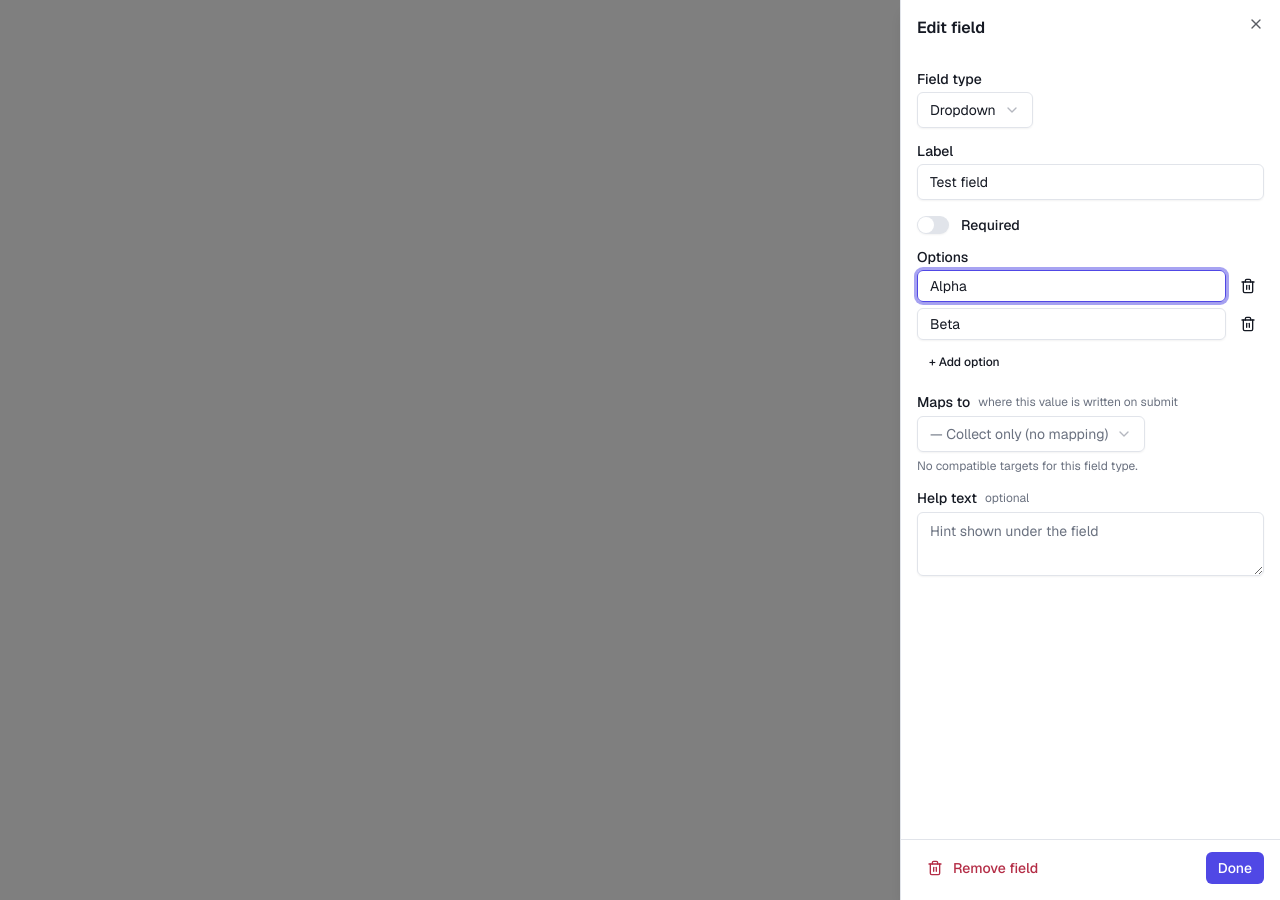
Test case: FieldConfigSheet — dropdown option editing (#3 regression) › keeps focus while typing in an option (no per-keystroke remount)
Type "XYZ" into the 1st field showing "Alpha".
click(1072, 286); type("XYZ")  # box [917,270,1226,302]
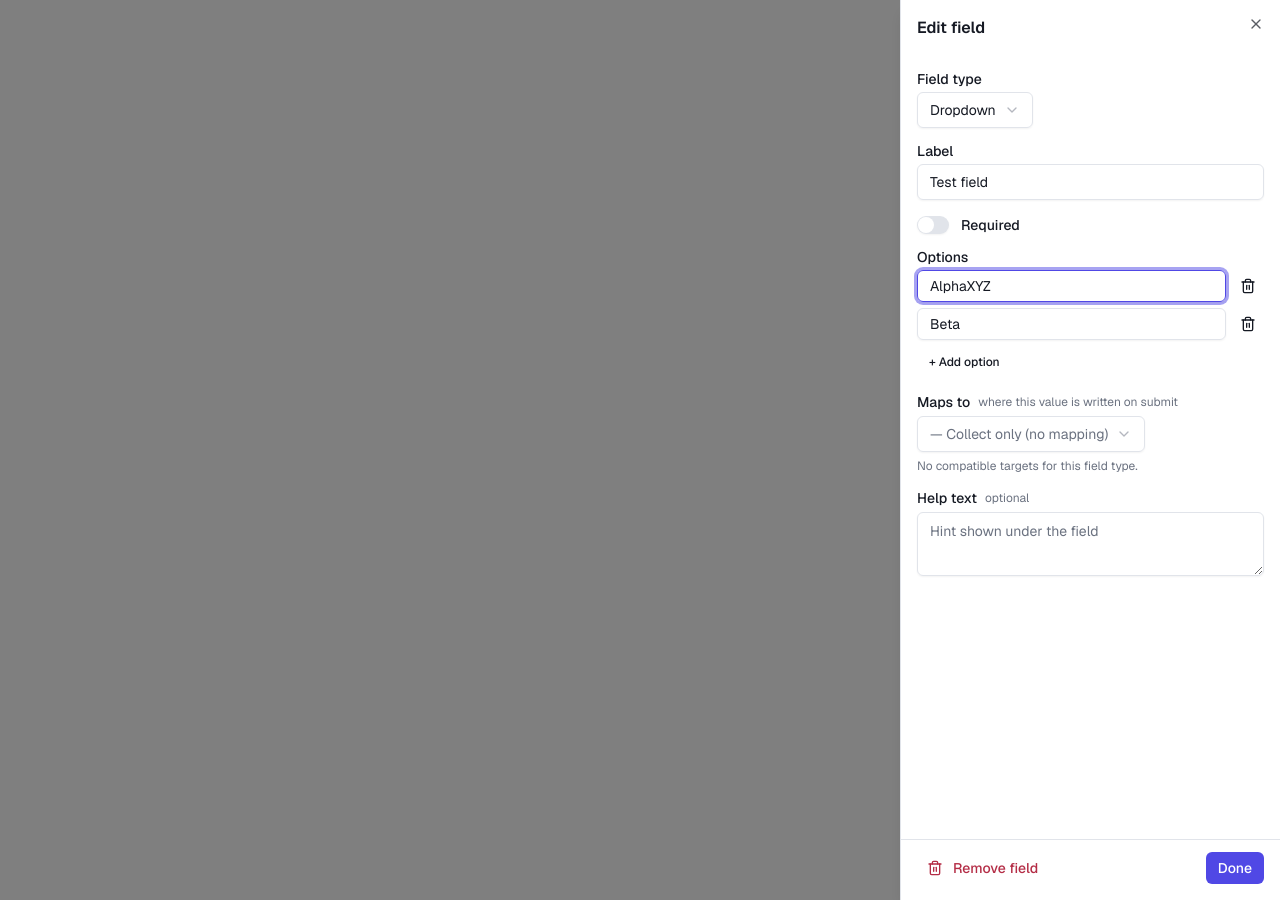
Check: the 1st field showing "AlphaXYZ" is shown, box [917,270,1226,302]
